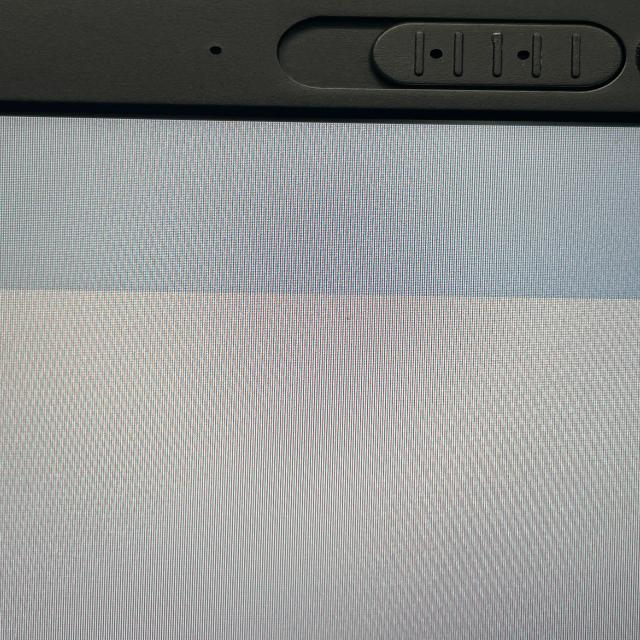Dead pixel: (346, 317, 349, 320)
